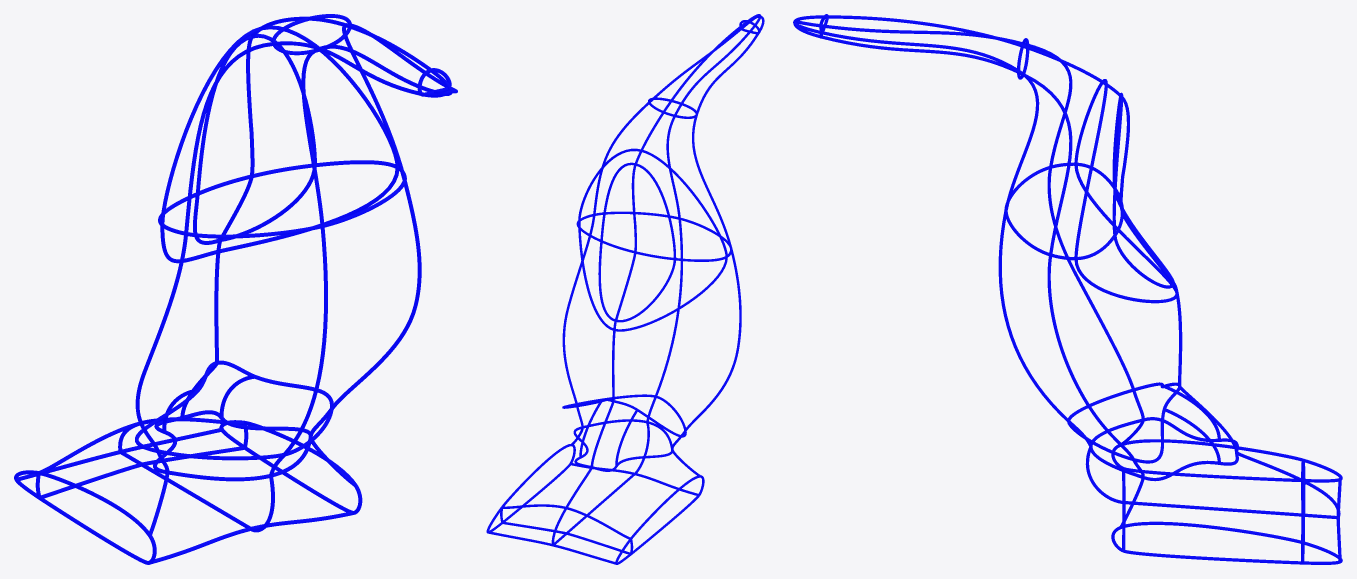
The model's file is t2f_vacuum.glb.
The picture shows the model from 3 angles, left to right: view 1: azimuth 30°, elevation 25°; view 2: azimuth 150°, elevation 25°; view 3: azimuth 270°, elevation 25°; orthographic projection. The views are drawn at different scales.
Visible parts, largest first — view 1: t2f_vacuum; view 2: t2f_vacuum; view 3: t2f_vacuum.
Boxes of the visible parts, box(x1,y1,x2,y2) form: t2f_vacuum: box(14, 14, 457, 564); t2f_vacuum: box(486, 14, 764, 564); t2f_vacuum: box(793, 14, 1342, 564).
Bounding box in the file's own units: 0.3174 × 0.6821 × 0.6687.
